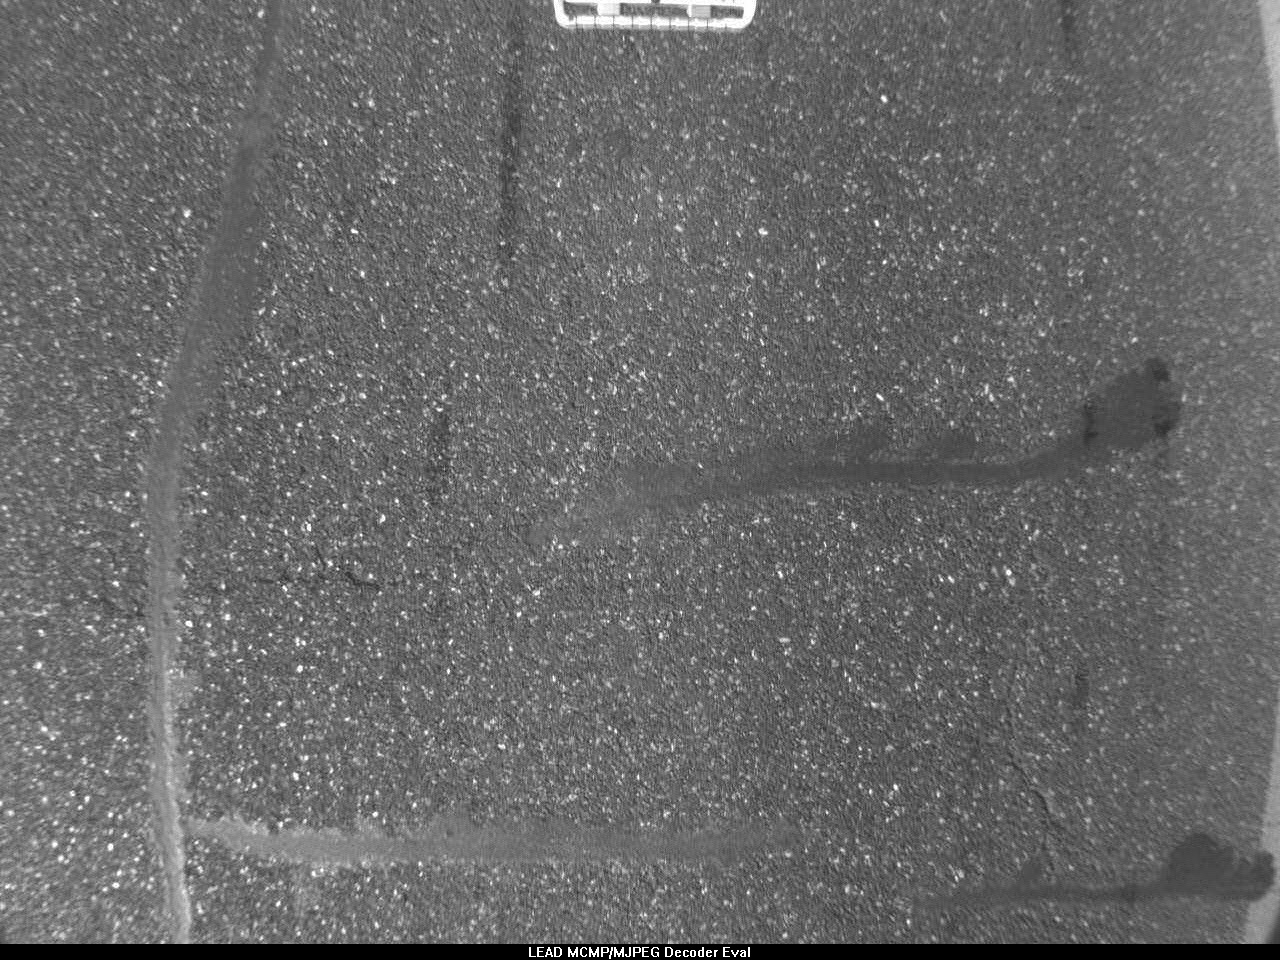sealed: (545, 359, 1186, 551), (182, 787, 808, 883)
